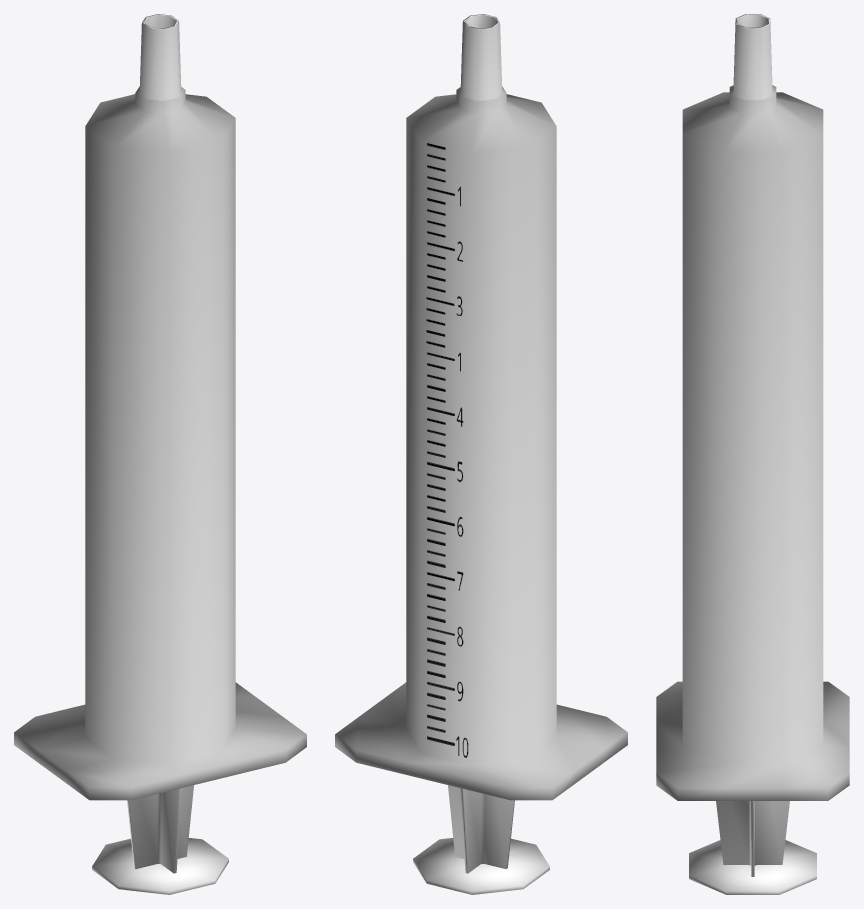
File: seringa 10mL text.fbx
The picture shows the model from 3 angles, left to right: view 1: azimuth 30°, elevation 25°; view 2: azimuth 150°, elevation 25°; view 3: azimuth 270°, elevation 25°; orthographic projection.
Visible parts, largest first — view 1: Parte externa, Parte Interna; view 2: Parte externa, Parte Interna, Rotulo; view 3: Parte externa, Parte Interna.
Boxes of the visible parts, x1,y1,x2,y2 form: Parte externa: (14, 14, 306, 800); Parte Interna: (92, 785, 228, 894); Parte externa: (335, 14, 627, 800); Parte Interna: (413, 785, 549, 894); Rotulo: (426, 143, 468, 757); Parte externa: (656, 14, 849, 800); Parte Interna: (689, 801, 816, 894).
Bounding box in the file's own units: 125 × 465 × 96.38.
Materials: 4 (1 with a texture image).
